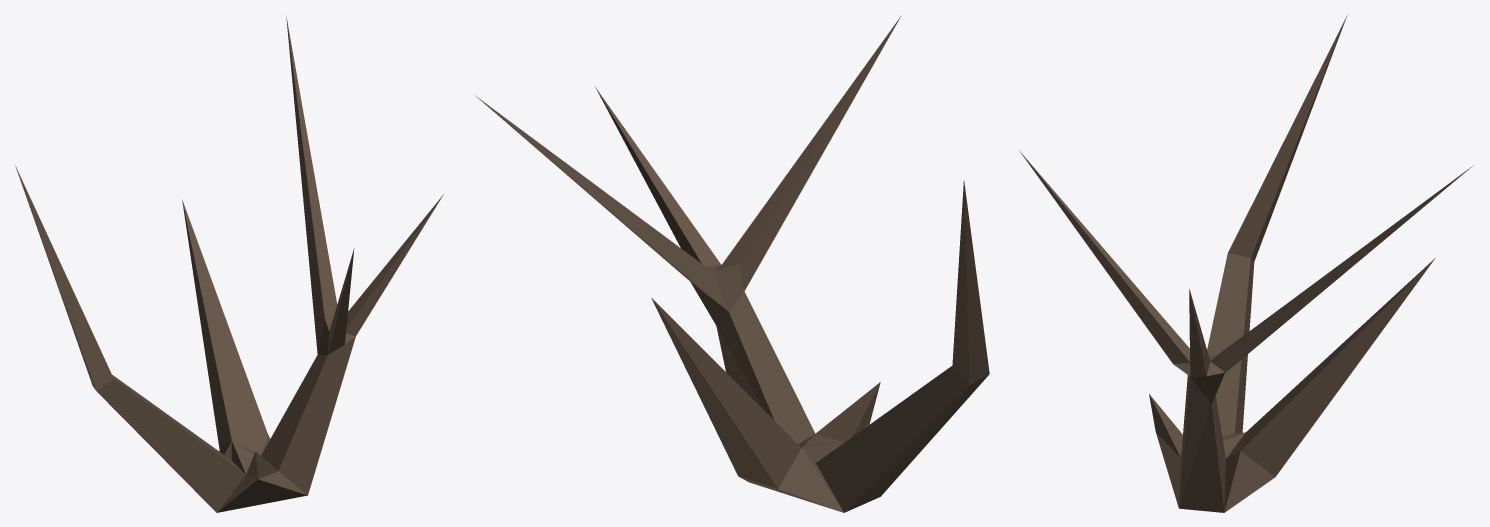
File: shrub3.glb
3 views of the same model, side by side, from view 1: azimuth 30°, elevation 25°; view 2: azimuth 150°, elevation 25°; view 3: azimuth 270°, elevation 25° (orthographic). The views are drawn at different scales.
Visible parts, largest first — view 1: shrub_3; view 2: shrub_3; view 3: shrub_3.
Part boxes in pixels (box(x1,y1,x2,y2)): shrub_3: box(15, 16, 443, 512); shrub_3: box(475, 15, 989, 512); shrub_3: box(1019, 14, 1473, 512).
Bounding box in the file's own units: 0.4566 × 0.4368 × 0.4448.
